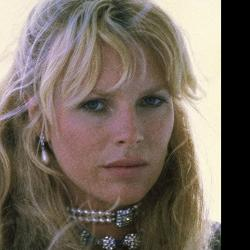face: (11, 3, 207, 220)
